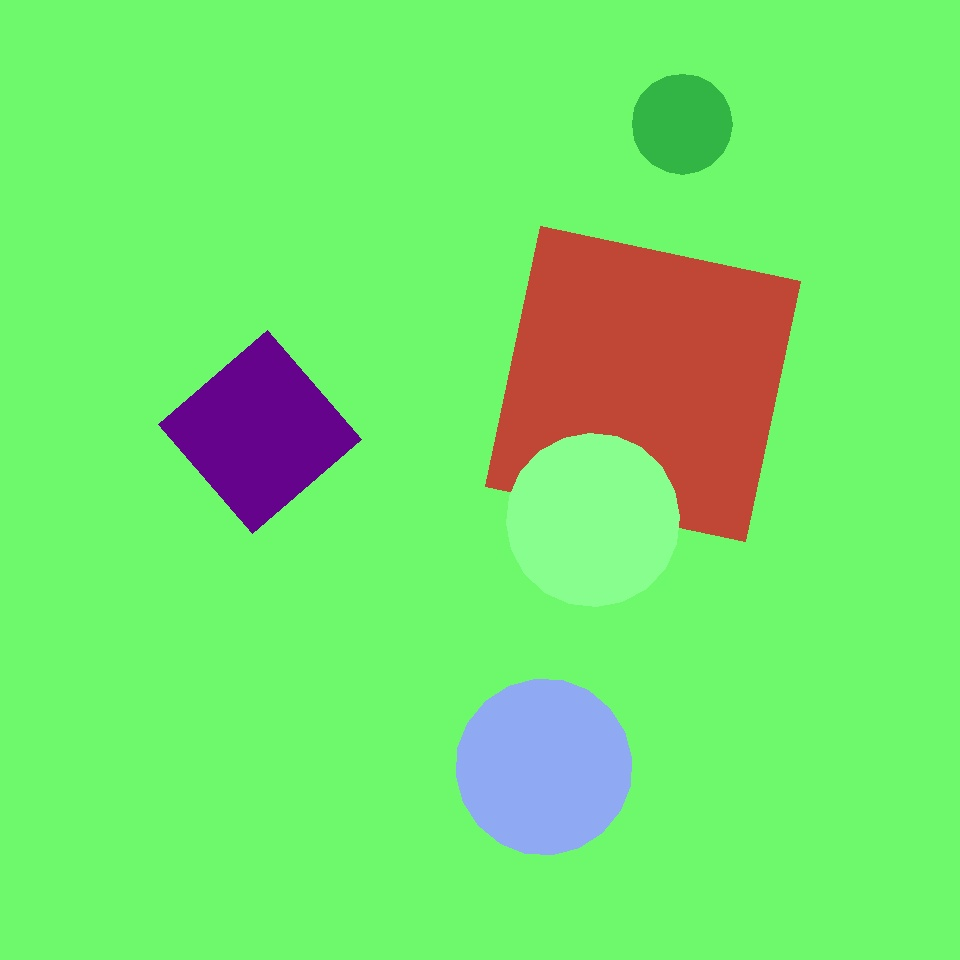circle: (827, 741, 932, 860)
square: (486, 227, 800, 542), (158, 330, 361, 534), (416, 523, 540, 648)
triangle: (427, 189, 679, 441), (456, 680, 632, 854), (506, 434, 680, 606), (632, 74, 732, 174)
